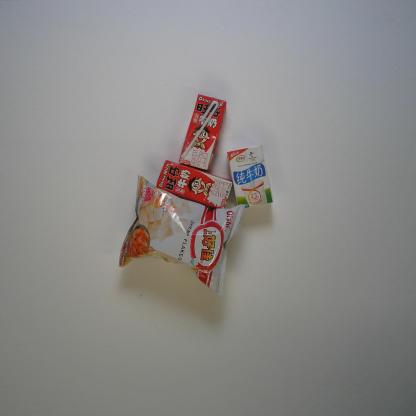Milk: (154, 156, 235, 210), (179, 90, 228, 172), (224, 143, 276, 211)
Puffed Food: (117, 173, 247, 293)
